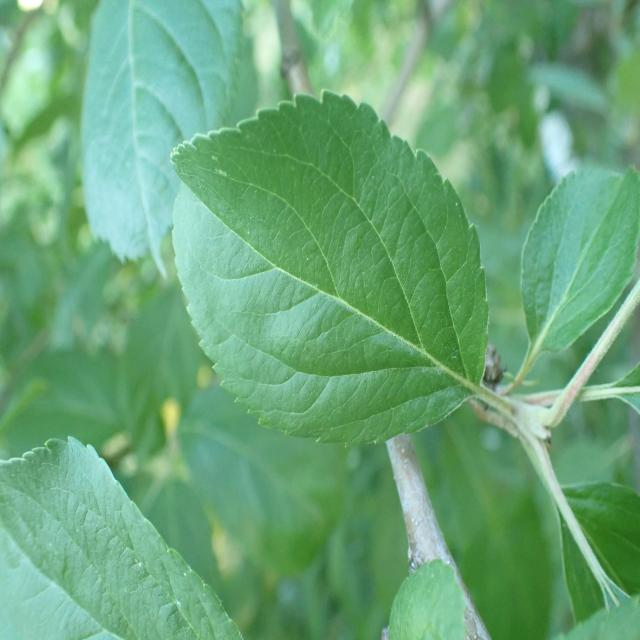healthy: (168, 89, 490, 449), (0, 434, 244, 640), (82, 0, 254, 280), (520, 163, 640, 353), (556, 481, 640, 624), (387, 560, 468, 640)
